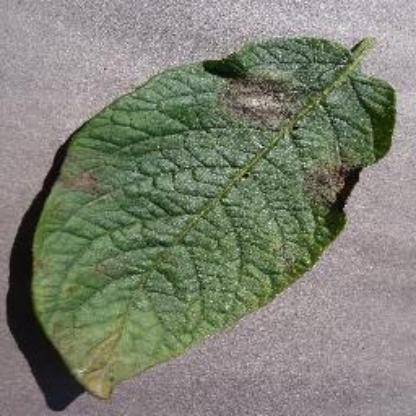Late-Blight: (20, 15, 398, 405)
